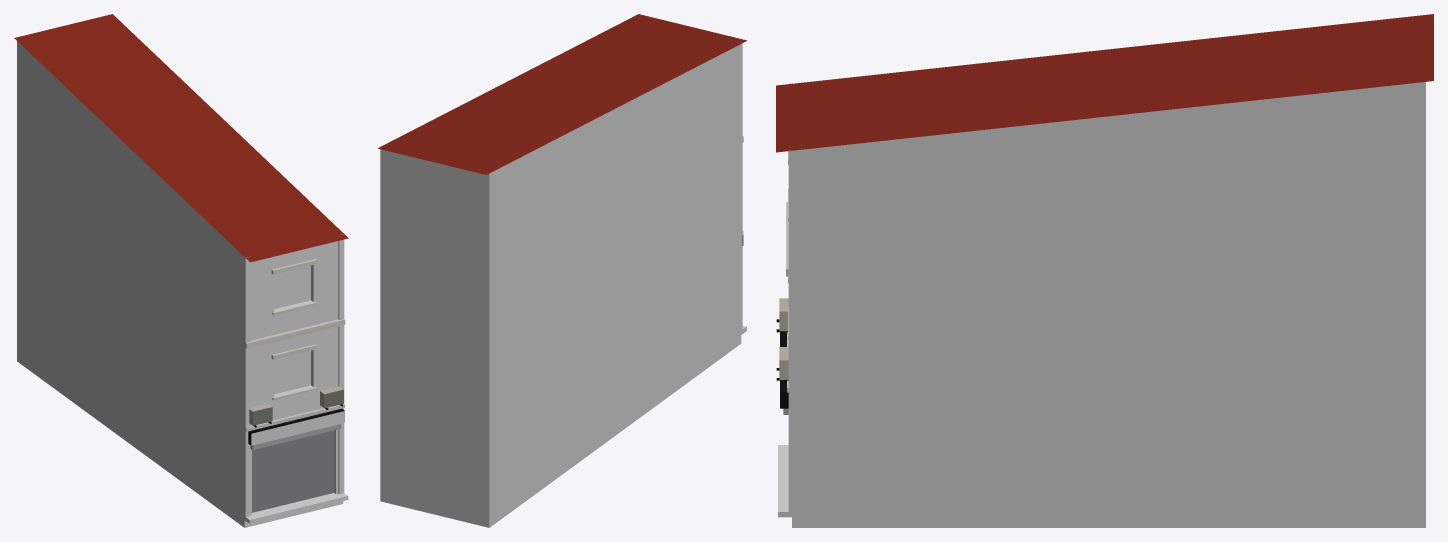
The picture shows the model from 3 angles, left to right: view 1: azimuth 30°, elevation 25°; view 2: azimuth 150°, elevation 25°; view 3: azimuth 270°, elevation 25°; orthographic projection. The views are drawn at different scales.
Visible parts, largest first — view 1: TH_D16_C_07_LOD0; view 2: TH_D16_C_07_LOD0; view 3: TH_D16_C_07_LOD0.
Boxes of the visible parts, <box> form: TH_D16_C_07_LOD0: <box>14,14,348,527</box>; TH_D16_C_07_LOD0: <box>377,14,747,527</box>; TH_D16_C_07_LOD0: <box>776,14,1433,527</box>.
Size of what is drawn, in the model's own units: 4 by 12.44 by 16.6.
